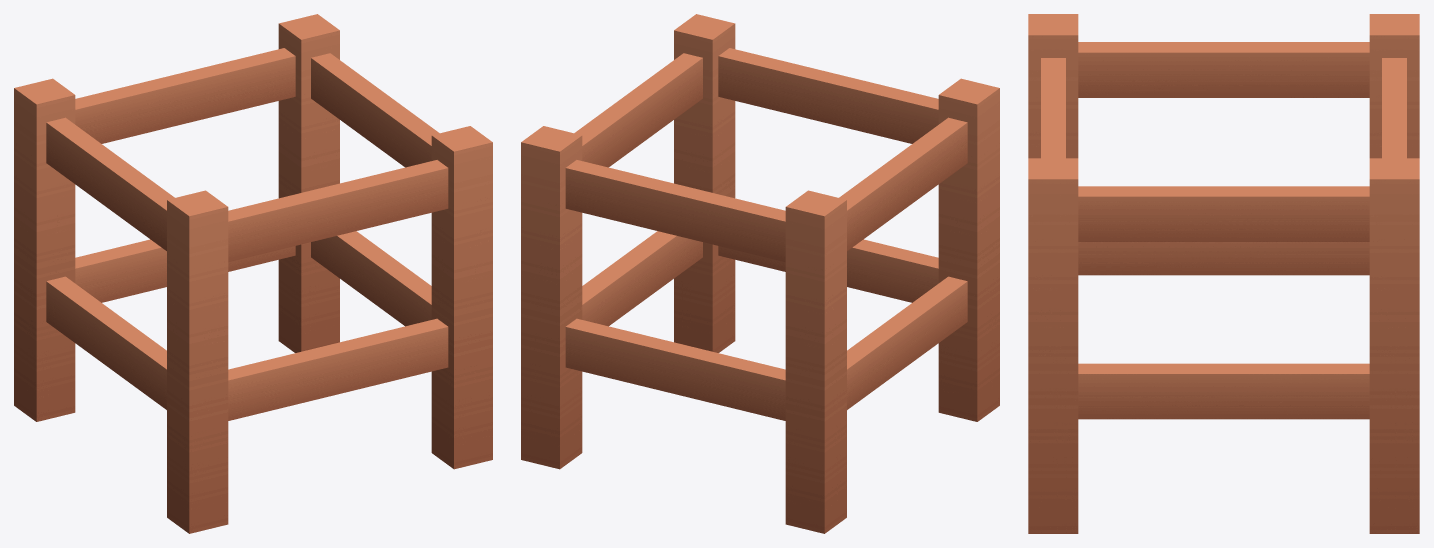
File: wood-structure-high.glb
The picture shows the model from 3 angles, left to right: view 1: azimuth 30°, elevation 25°; view 2: azimuth 150°, elevation 25°; view 3: azimuth 270°, elevation 25°; orthographic projection. The views are drawn at different scales.
Parts seen in each view (by area): view 1: wood-structure-high; view 2: wood-structure-high; view 3: wood-structure-high.
Boxes of the visible parts, bbox=[...] form: wood-structure-high: bbox=[14, 14, 492, 533]; wood-structure-high: bbox=[521, 14, 999, 533]; wood-structure-high: bbox=[1028, 14, 1419, 533].
Size of the model in its own units: 3 by 3 by 3.
Materials: 1 (1 with a texture image).
